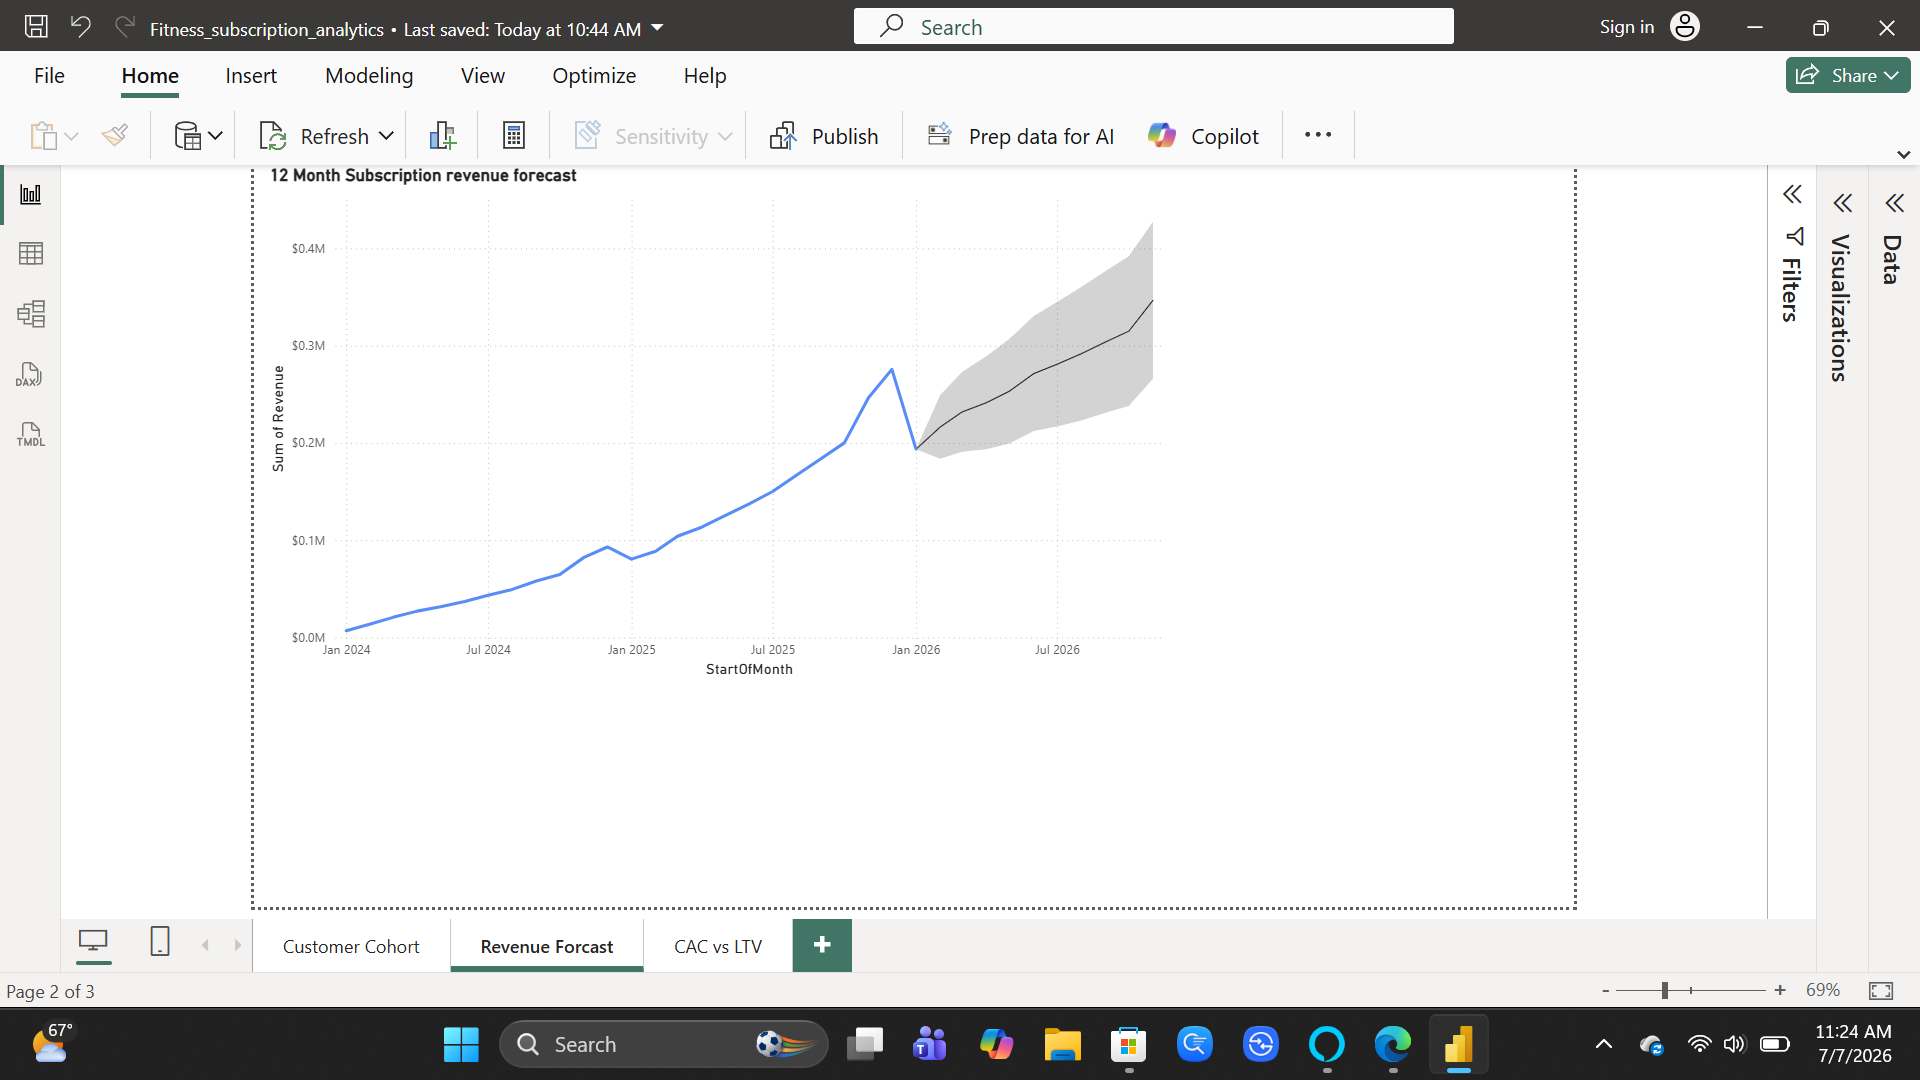

This screenshot's page, from the dashboard's own definition file:
{"tool":"powerbi","page":{"name":"Revenue Forcast","canvas":[1280,720],"ordinal":1},"visuals":[{"type":"lineChart","title":"12 Month Subscription revenue forecast","fields":{"Category":["dim_date.StartOfMonth"],"Y":["Sum(transactions.Revenue)"]},"box":[10.6,0,888.8,501.2],"z":0}]}

Visuals, with their boxes on the page's 1280x720 design canvas (x1, y1, x2, y2). These are canvas units, not pixel positions in the 1920x1080 screenshot, which may show the page scaled, cropped or inside an application window:
"12 Month Subscription revenue forecast" lineChart: <bbox>11, 0, 899, 501</bbox>
